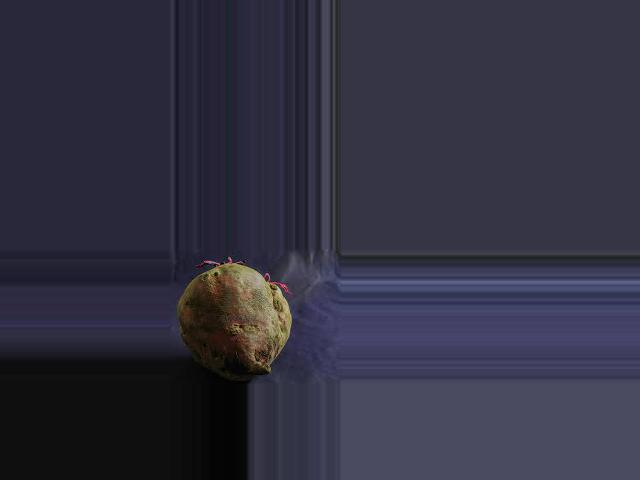beet: (178, 258, 292, 380)
